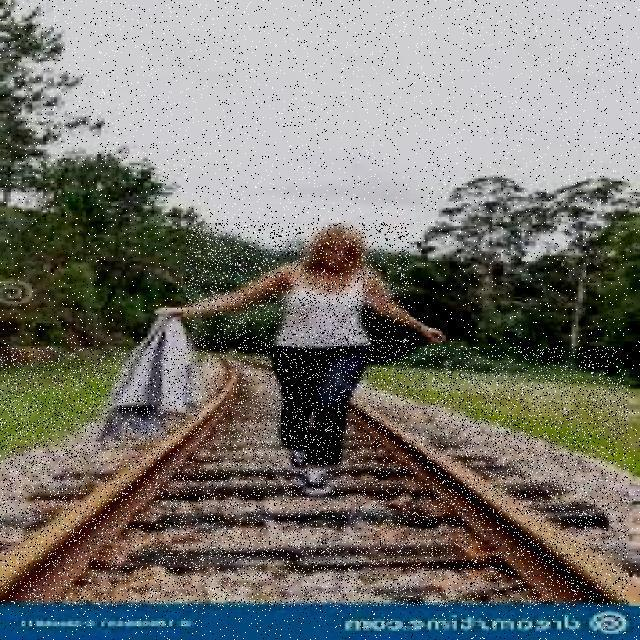danger: (186, 223, 409, 495)
rail: (0, 347, 628, 607), (223, 200, 228, 209)
